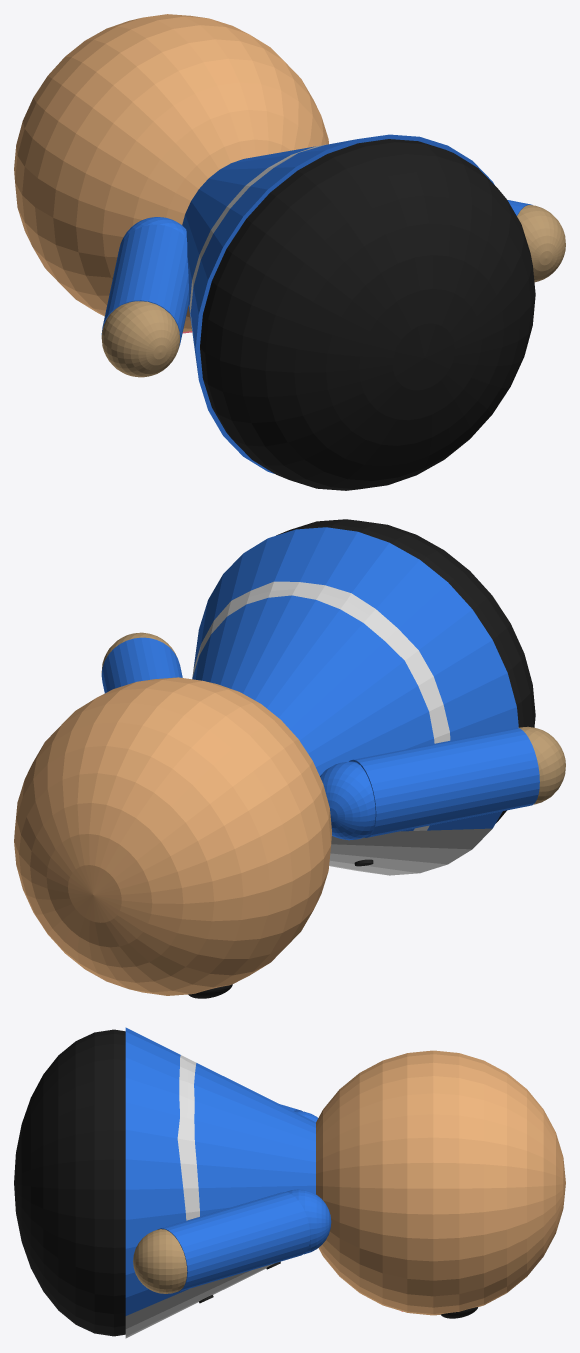
File: NPlayer.fbx
3 renders of one model, top to bottom at view 1: azimuth 30°, elevation 25°; view 2: azimuth 150°, elevation 25°; view 3: azimuth 270°, elevation 25°, orthographic. The views are drawn at different scales.
Parts seen in each view (by area): view 1: Cube; view 2: Cube; view 3: Cube.
Boxes of the visible parts, x1,y1,x2,y2 form: Cube: [14, 14, 565, 490]; Cube: [14, 519, 565, 998]; Cube: [14, 1027, 565, 1338].
Bounding box in the file's own units: 280 × 200 × 354.
